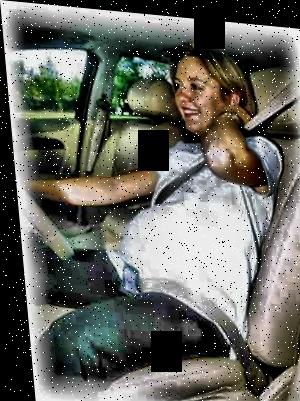seatbelt: (109, 66, 300, 210)
